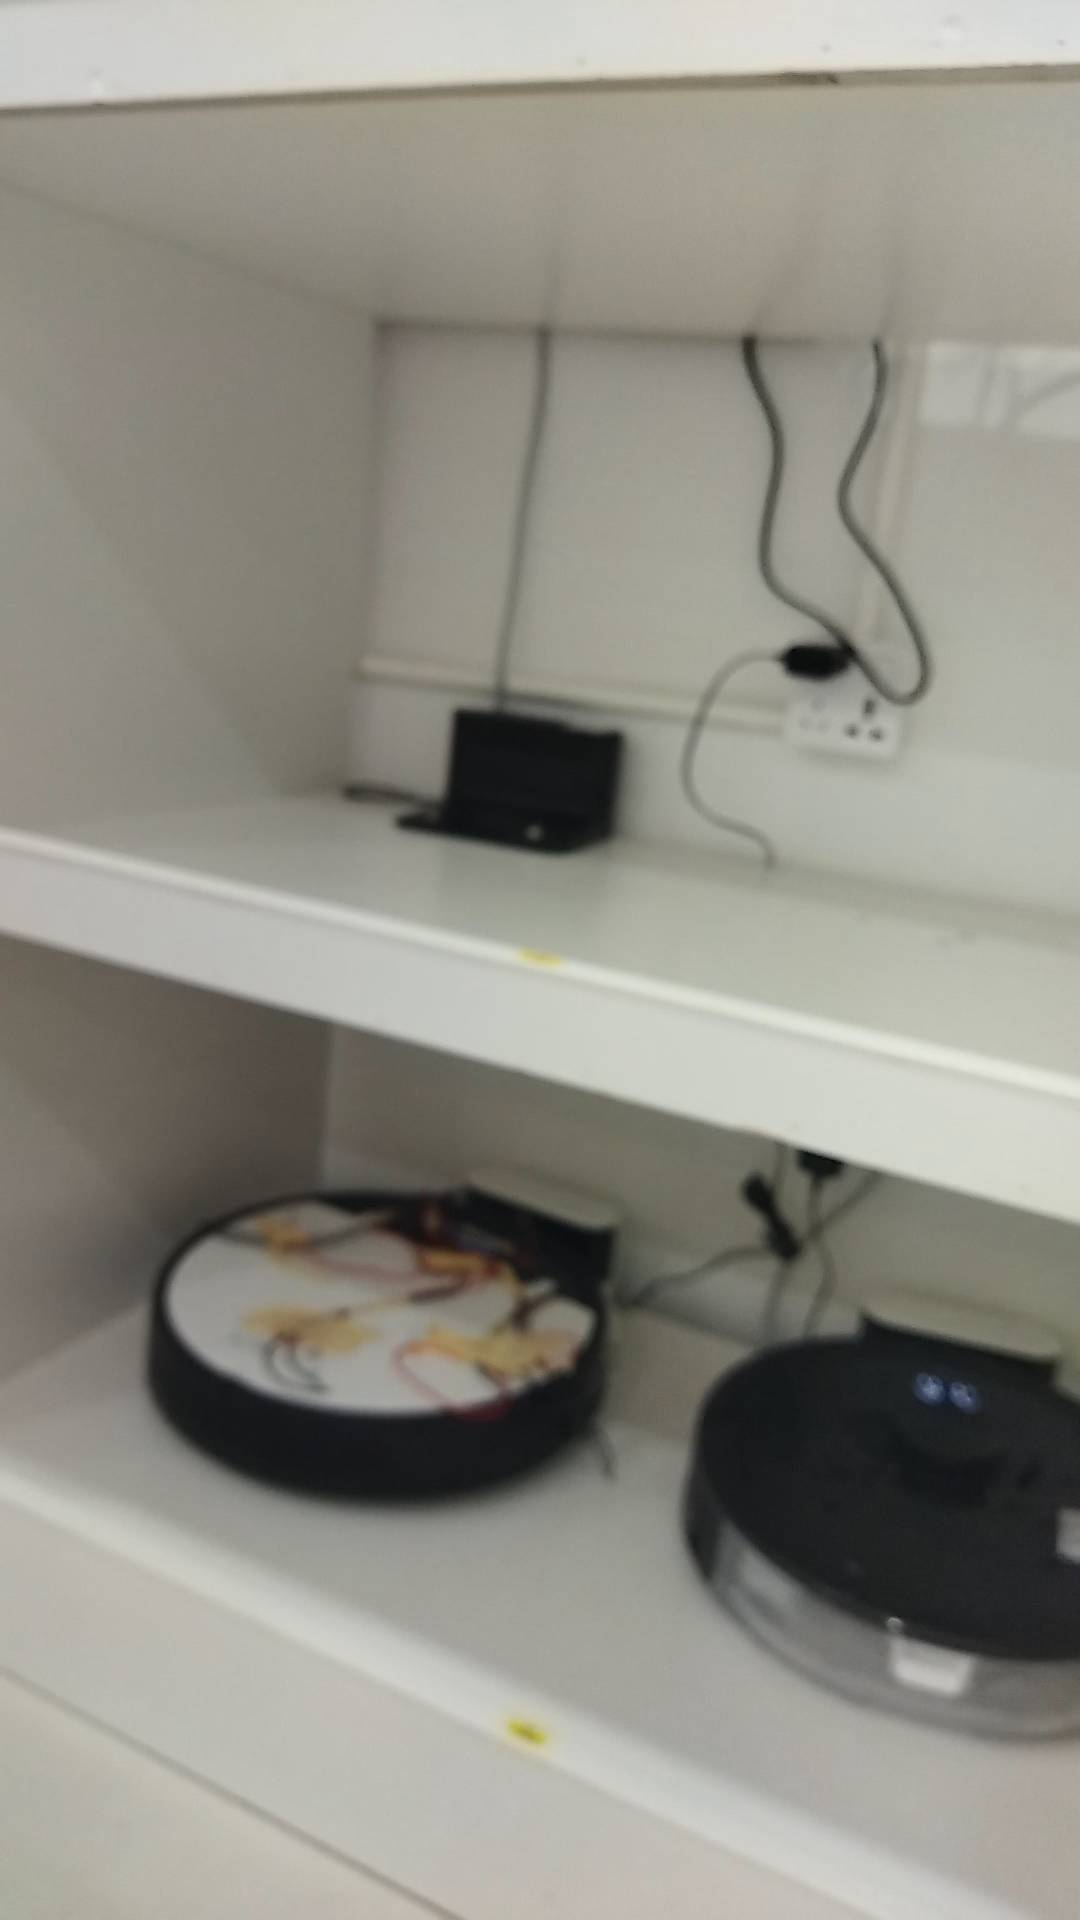recharge seat: (392, 704, 625, 855), (436, 1159, 625, 1276), (843, 1286, 1080, 1371)
